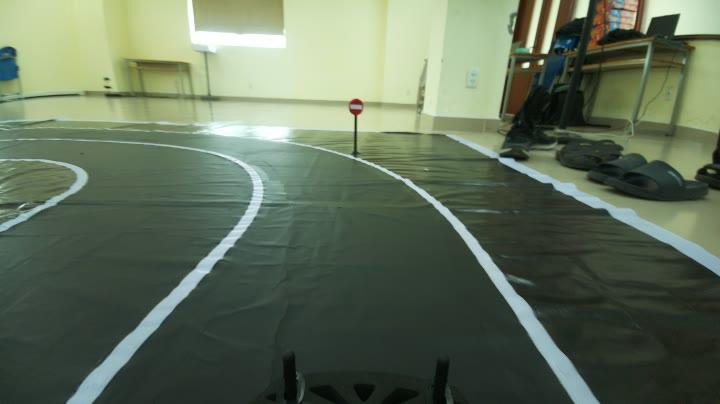no_entry: (342, 92, 369, 120)
